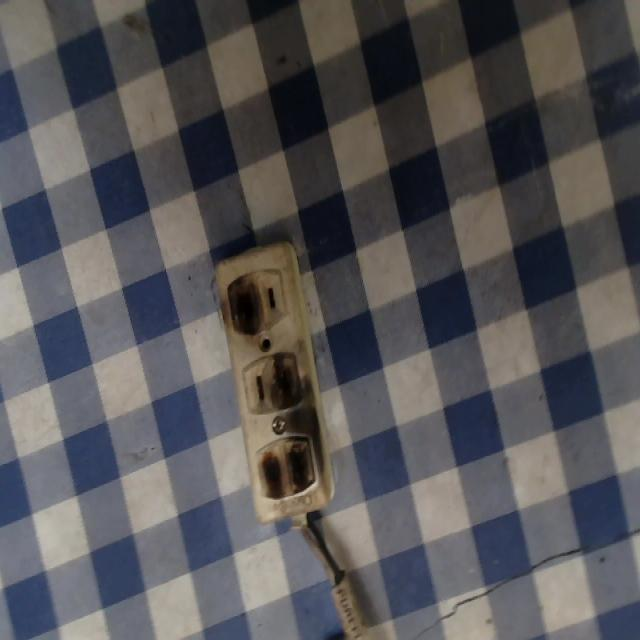-: (252, 433, 318, 499), (223, 275, 268, 337), (270, 348, 306, 411)
